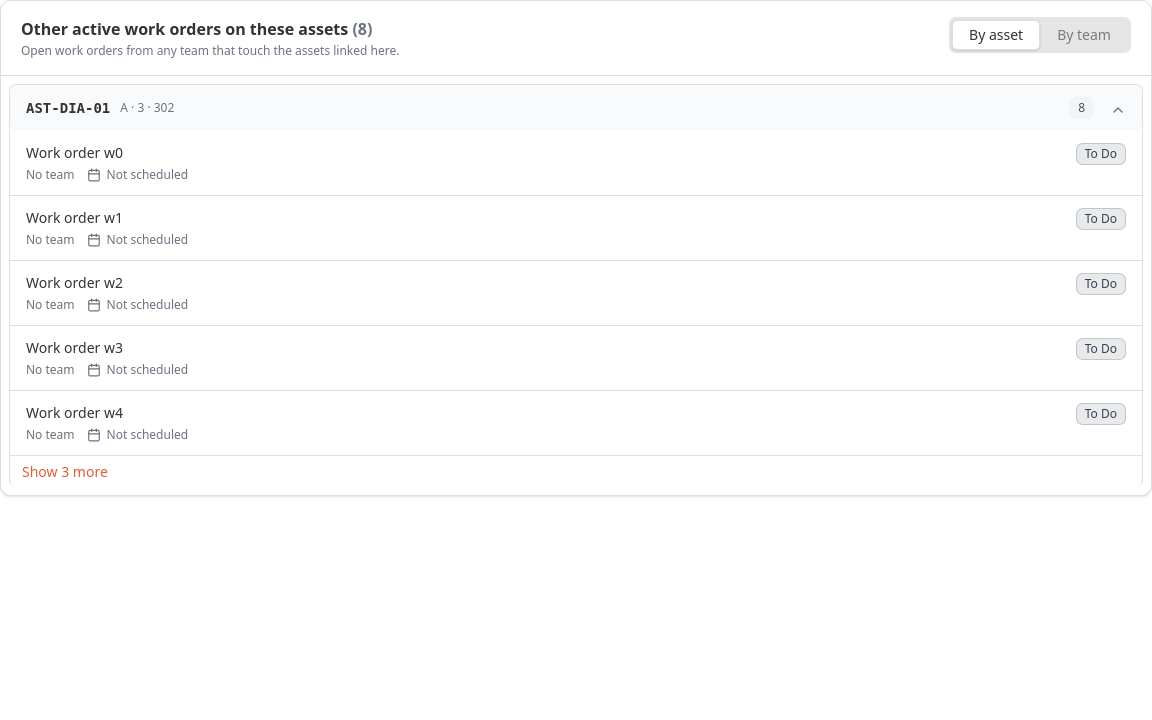
Test case: OtherAssetWorkOrdersCard › caps a group at five rows and keeps the full count on the badge
Check: the number of links "Work order w0" is 5, box [26,143,123,162]; [26,208,123,227]; [26,273,123,292]; [26,338,123,357]; [26,403,123,422]
Check: the text "8" is shown, box [1069,97,1094,119]
Click the button "Show 3 more" at (65, 471), box [10,455,1142,487]
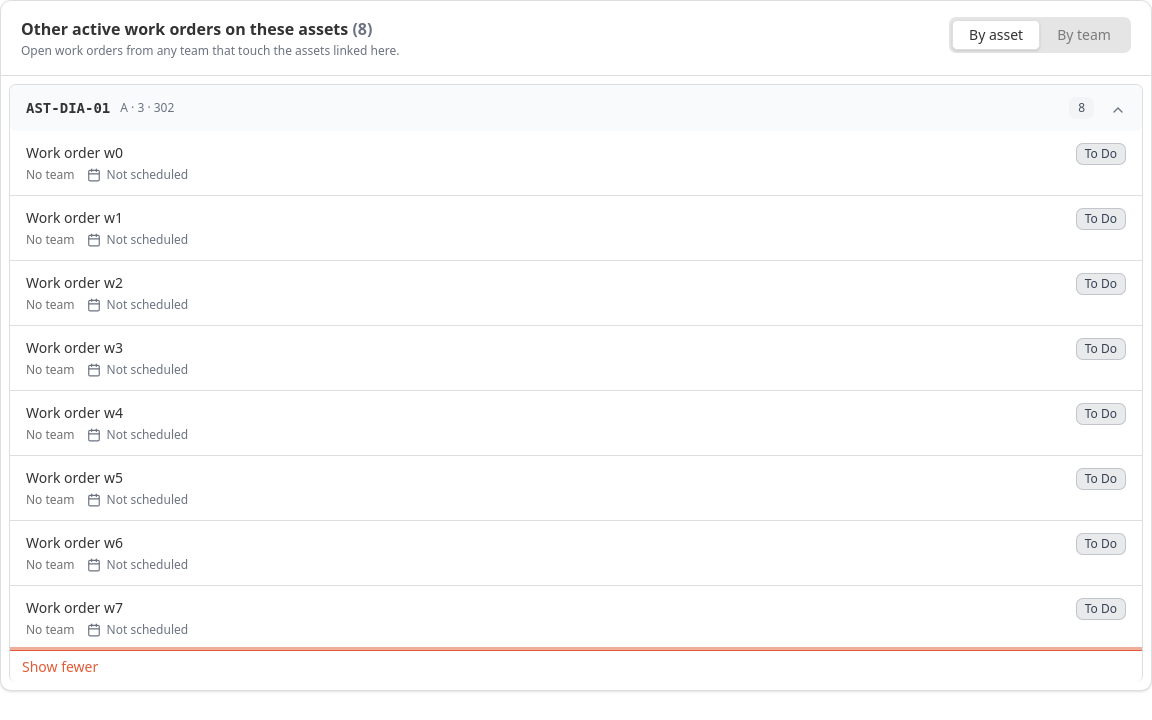
Check: the text "8" is shown, box [1069,97,1094,119]
Check: the number of links "Work order w0" is 8
Check: the button "Show fewer" is shown, box [10,650,1142,682]
